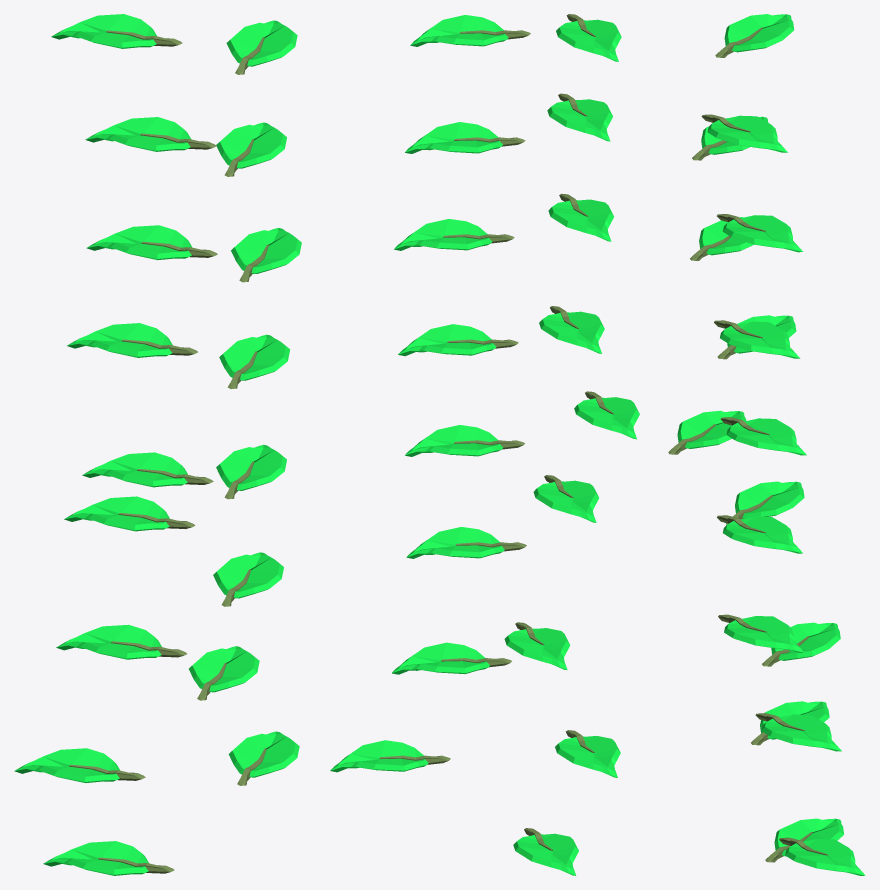
Rendered from leaves.fbx.
3 views of the same model, side by side, from view 1: azimuth 30°, elevation 25°; view 2: azimuth 150°, elevation 25°; view 3: azimuth 270°, elevation 25° (orthographic). The views are drawn at different scales.
Visible parts, largest first — view 1: Leaves.009, Leaves.007, Leaves.015, Leaves.004, Leaves.006, Leaves.011, Leaves.017, Leaves.013, Leaves.018, Leaves.014, Leaves.002, Leaves.005 (+5 smaller); view 2: Leaves.016, Leaves.008, Leaves.010, Leaves.012, Leaves.005, Leaves.002, Leaves.003, Leaves.014, Leaves.011, Leaves.015, Leaves.018, Leaves.004 (+5 smaller); view 3: Leaves.004, Leaves.013, Leaves.010, Leaves.002, Leaves.008, Leaves.012, Leaves.014, Leaves.005, Leaves.016, Leaves.003, Leaves.011, Leaves.018 (+5 smaller).
Boxes of the visible parts, x1,y1,x2,y2 form: Leaves.009: [67, 323, 197, 357]; Leaves.007: [86, 225, 217, 260]; Leaves.015: [43, 841, 174, 875]; Leaves.004: [51, 14, 182, 48]; Leaves.006: [85, 117, 216, 151]; Leaves.011: [82, 452, 213, 487]; Leaves.017: [14, 748, 145, 782]; Leaves.013: [64, 496, 195, 531]; Leaves.018: [56, 624, 187, 659]; Leaves.014: [213, 552, 283, 606]; Leaves.002: [189, 646, 259, 700]; Leaves.005: [216, 122, 286, 176]; Leaves.016: [330, 740, 450, 772]; Leaves.008: [394, 219, 514, 250]; Leaves.010: [398, 324, 518, 356]; Leaves.012: [405, 425, 524, 456]; Leaves.005: [405, 122, 525, 153]; Leaves.002: [392, 642, 511, 674]; Leaves.003: [410, 15, 530, 46]; Leaves.014: [406, 527, 526, 558]; Leaves.011: [574, 391, 639, 439]; Leaves.015: [513, 828, 578, 875]; Leaves.018: [504, 622, 570, 670]; Leaves.004: [556, 14, 621, 61]; Leaves.004: [715, 14, 794, 57]; Leaves.013: [726, 481, 804, 524]; Leaves.010: [720, 417, 806, 455]; Leaves.002: [755, 713, 841, 751]; Leaves.008: [714, 320, 800, 358]; Leaves.012: [717, 515, 802, 553]; Leaves.014: [718, 614, 803, 652]; Leaves.005: [717, 214, 802, 252]; Leaves.016: [779, 837, 865, 875]; Leaves.003: [701, 114, 787, 152]; Leaves.011: [668, 410, 746, 454]; Leaves.018: [762, 622, 840, 666].
Bounding box in the file's own units: 10.05 × 29.13 × 6.46.
